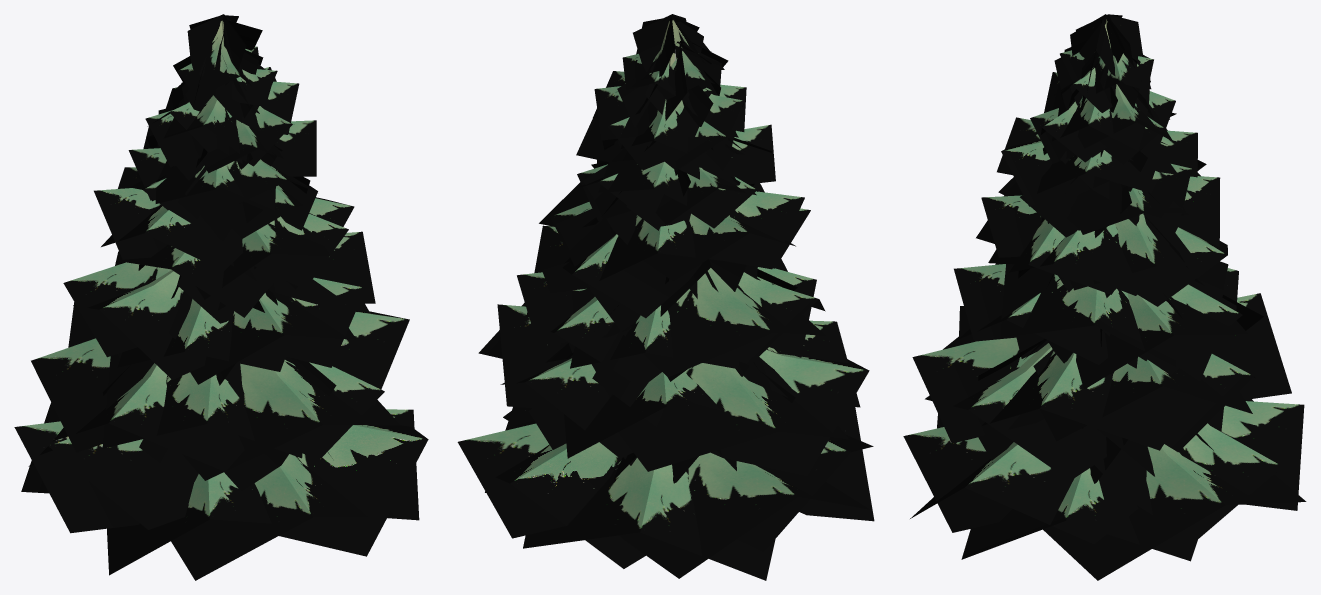
The model's file is YAY.fbx.
The picture shows the model from 3 angles, left to right: view 1: azimuth 30°, elevation 25°; view 2: azimuth 150°, elevation 25°; view 3: azimuth 270°, elevation 25°; orthographic projection.
Visible parts, largest first — view 1: Untitled_Artwork (86); view 2: Untitled_Artwork (86); view 3: Untitled_Artwork (86).
Boxes of the visible parts, box(x1,y1,x2,y2) form: Untitled_Artwork (86): box(14, 14, 428, 580); Untitled_Artwork (86): box(457, 14, 874, 580); Untitled_Artwork (86): box(903, 14, 1306, 580).
Bounding box in the file's own units: 3107 × 4231 × 3094.
